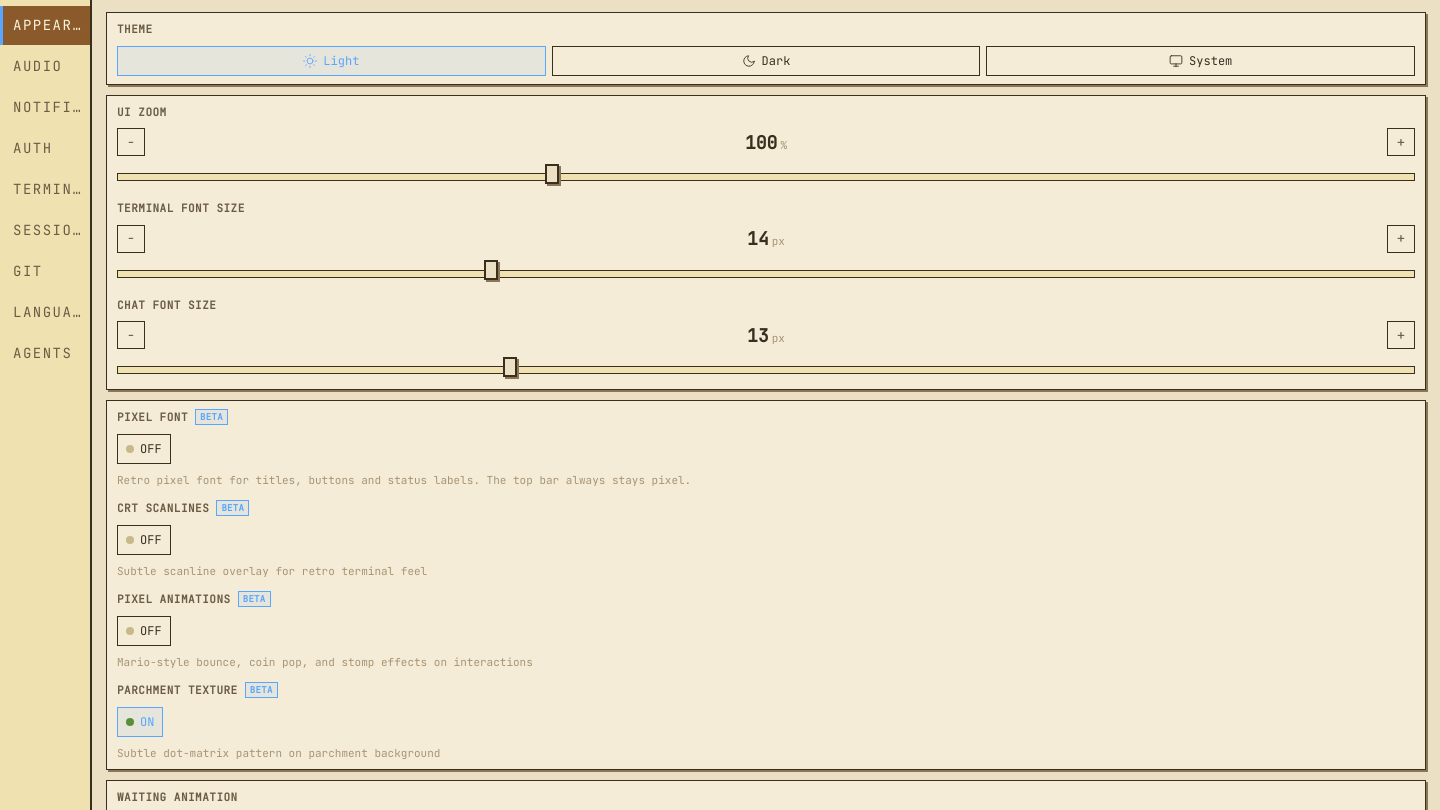
Test: Settings default terminal engine › offers both engines with tmux first (pty is still beta)
Step 1. Click the button with class "settings-tab" showing "TERMINAL" → (45, 190), box [0, 170, 90, 209]
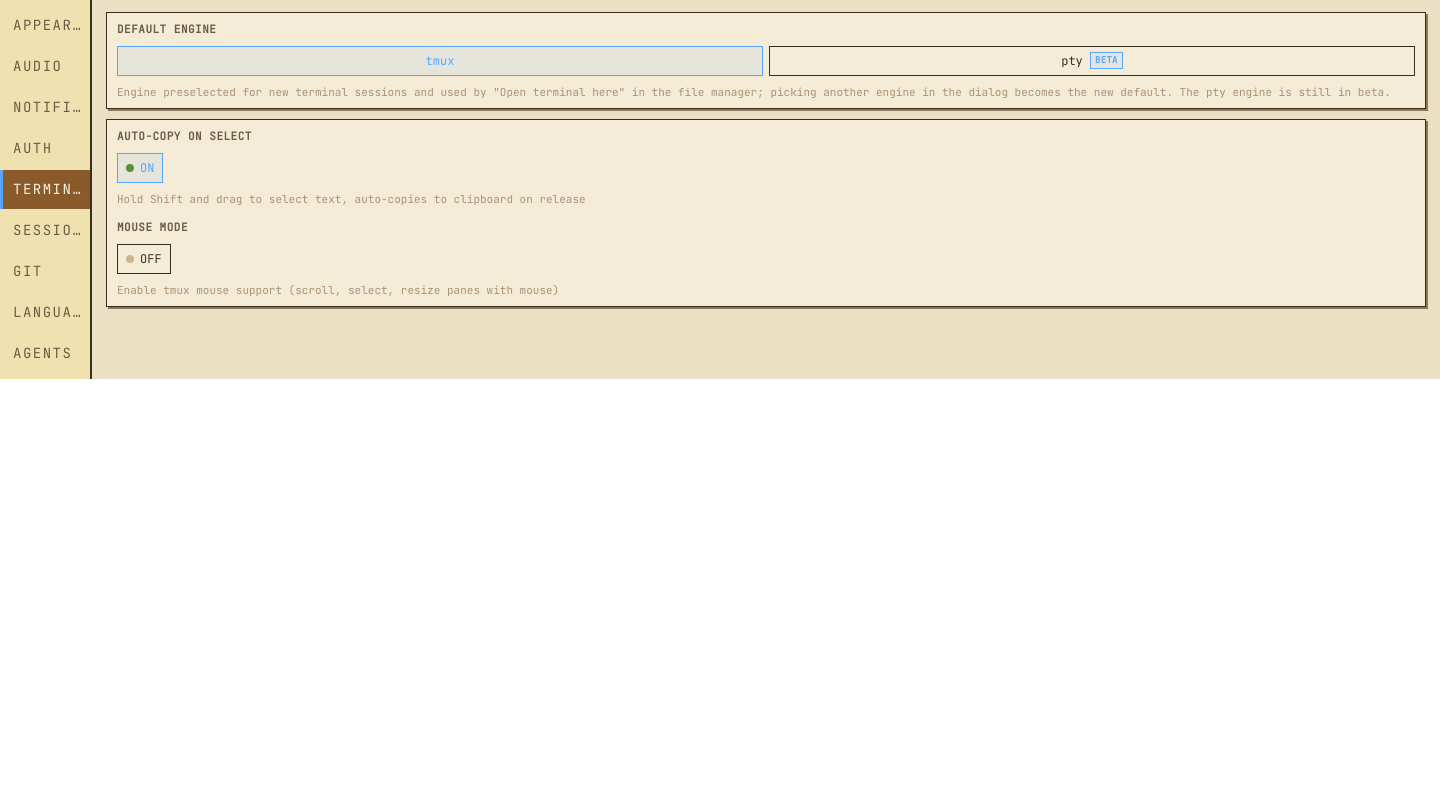
Expected: the text "BETA" is shown, [1090, 52, 1123, 69]
Result: the button "tmux" is shown at [117, 46, 763, 76]
